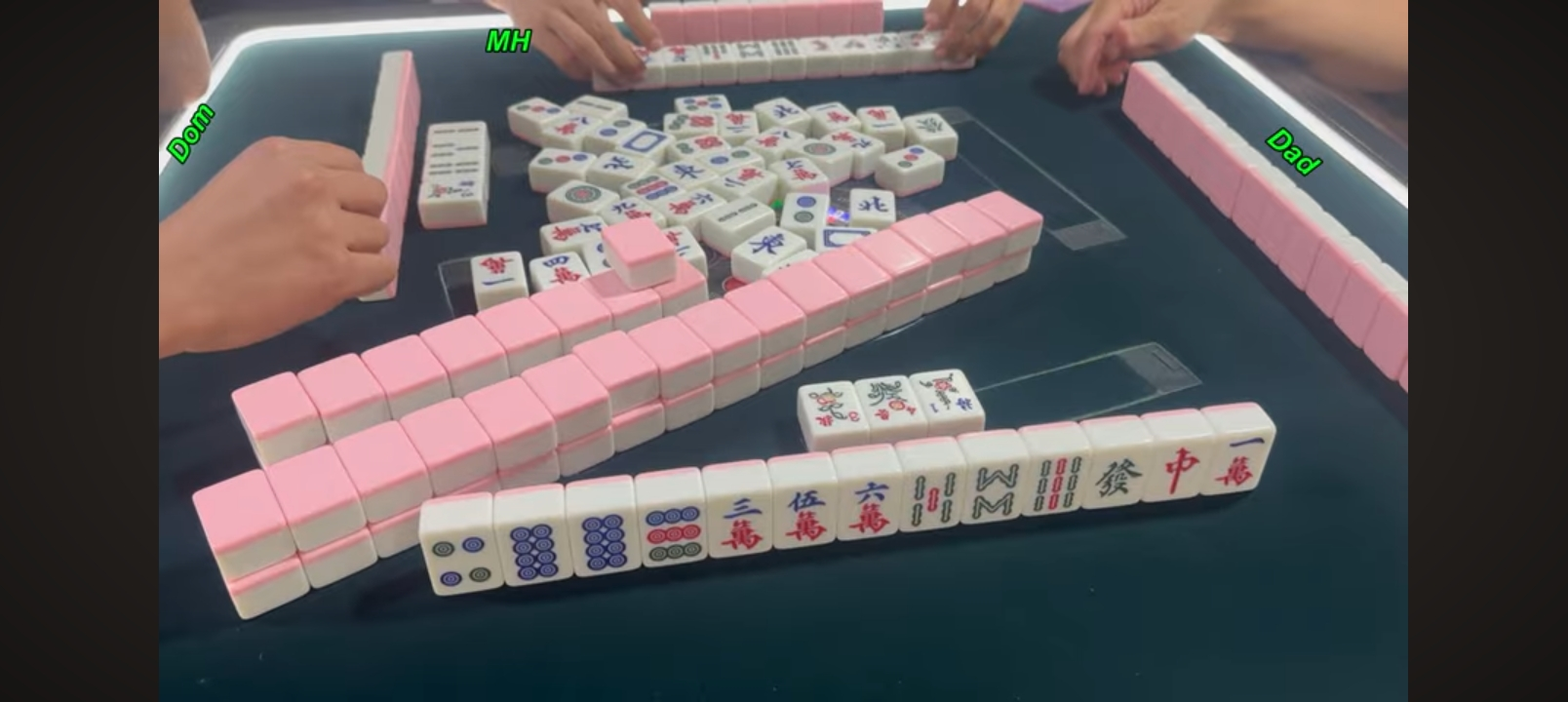TILE: (420, 531, 503, 593), (496, 522, 572, 584), (705, 493, 775, 558), (570, 511, 640, 573), (638, 504, 707, 566), (901, 468, 966, 531), (1151, 439, 1218, 499), (772, 488, 838, 548), (839, 478, 902, 539), (965, 458, 1025, 521), (1026, 454, 1089, 514), (1090, 447, 1151, 507), (1213, 435, 1274, 492), (917, 371, 986, 420), (800, 383, 861, 435), (860, 376, 918, 426)
